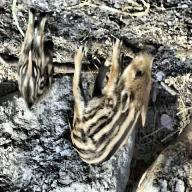boar: (67, 32, 167, 168)
